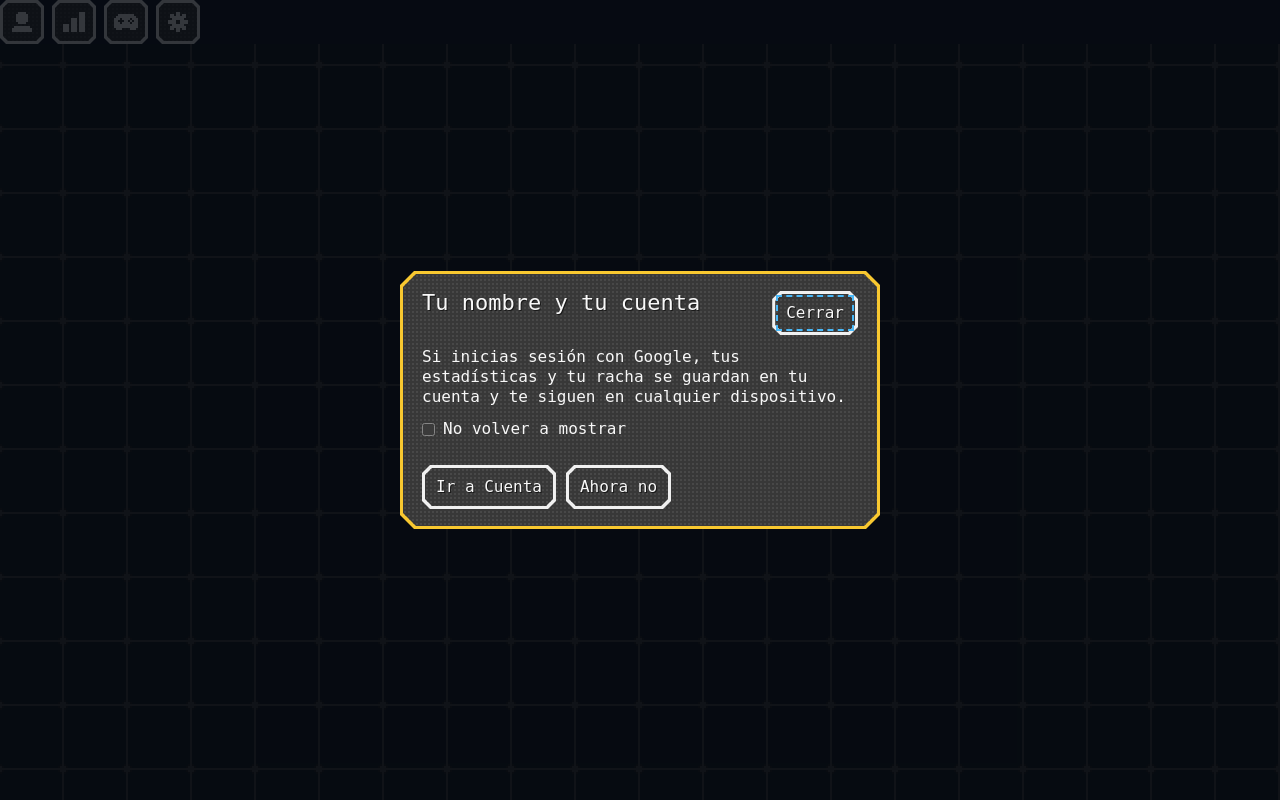
Scenario: aviso en Hoy › con «No volver a mostrar» marcado no vuelve a salir ningún día
Expected: the dialog "Tu nombre y tu cuenta" does not show "entrenador_12345", [400, 271, 880, 529]
What coordinates should you click on to do the following:
click the checkbox labelled "No volver a mostrar"
I would click on:
 (428, 429)
Its box is [422, 422, 435, 436].
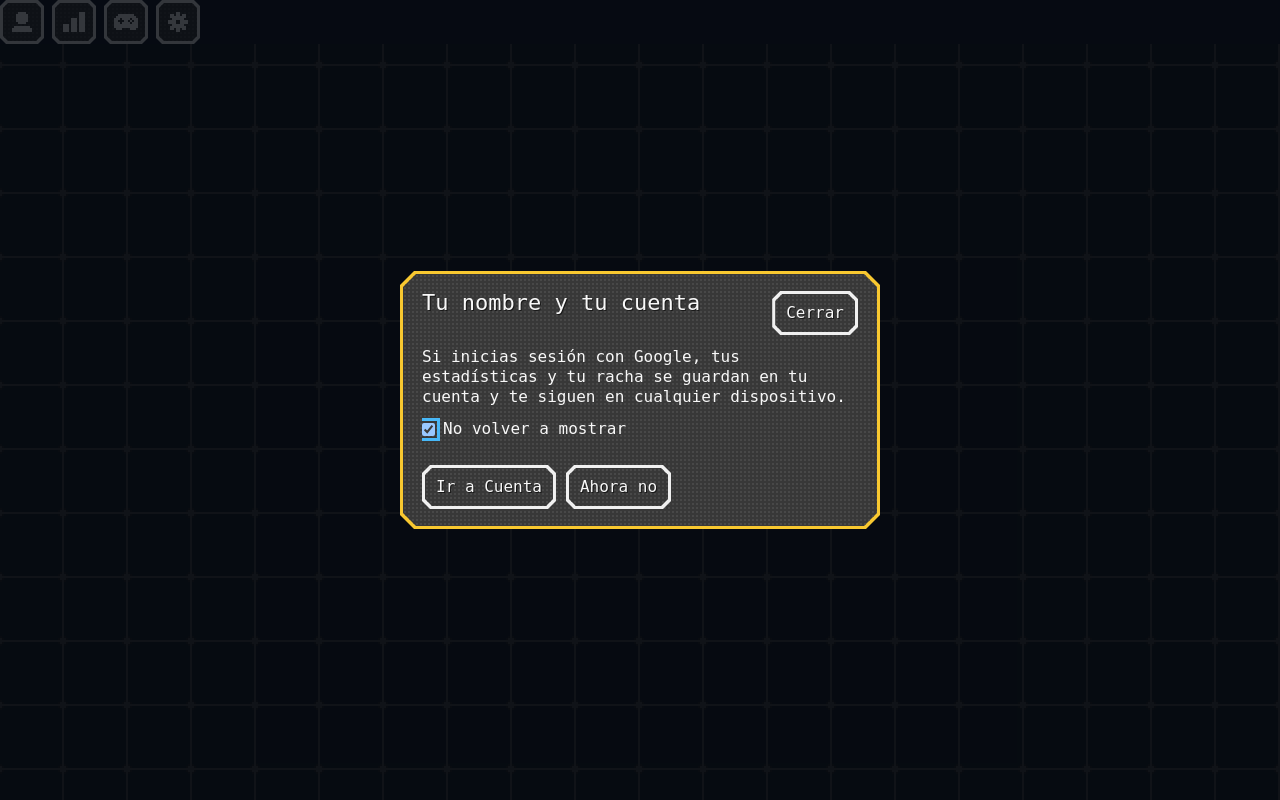
What coordinates should you click on to do the following:
click the button "Ahora no"
I would click on:
 (619, 487)
Its box is [566, 465, 671, 509].
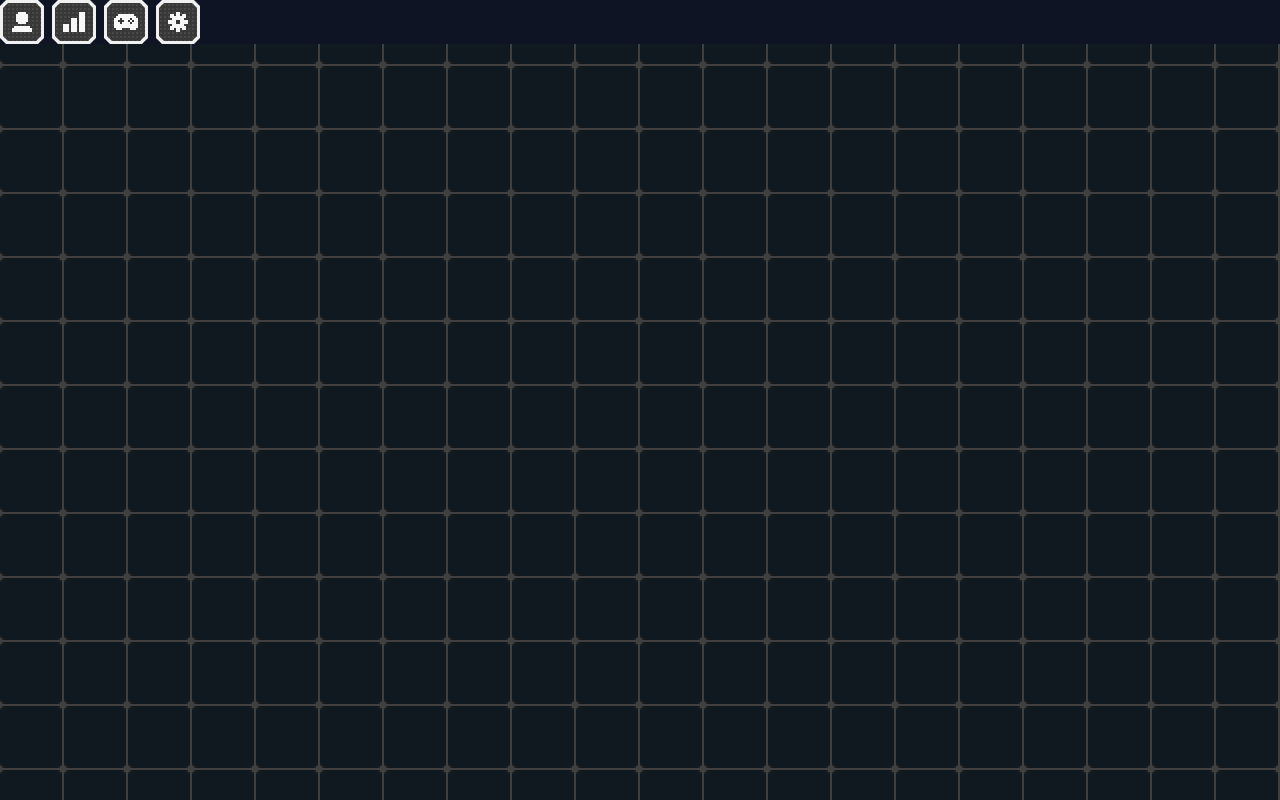
Now the dialog is gone
